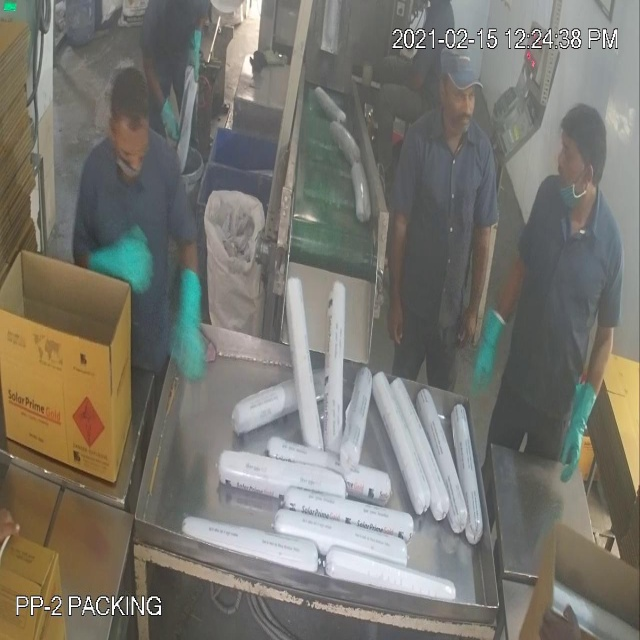Guantes: (171, 253, 208, 410), (557, 379, 603, 492), (85, 226, 148, 296), (465, 309, 512, 401)
Sin_guantes: (462, 202, 499, 348), (383, 192, 411, 346)
